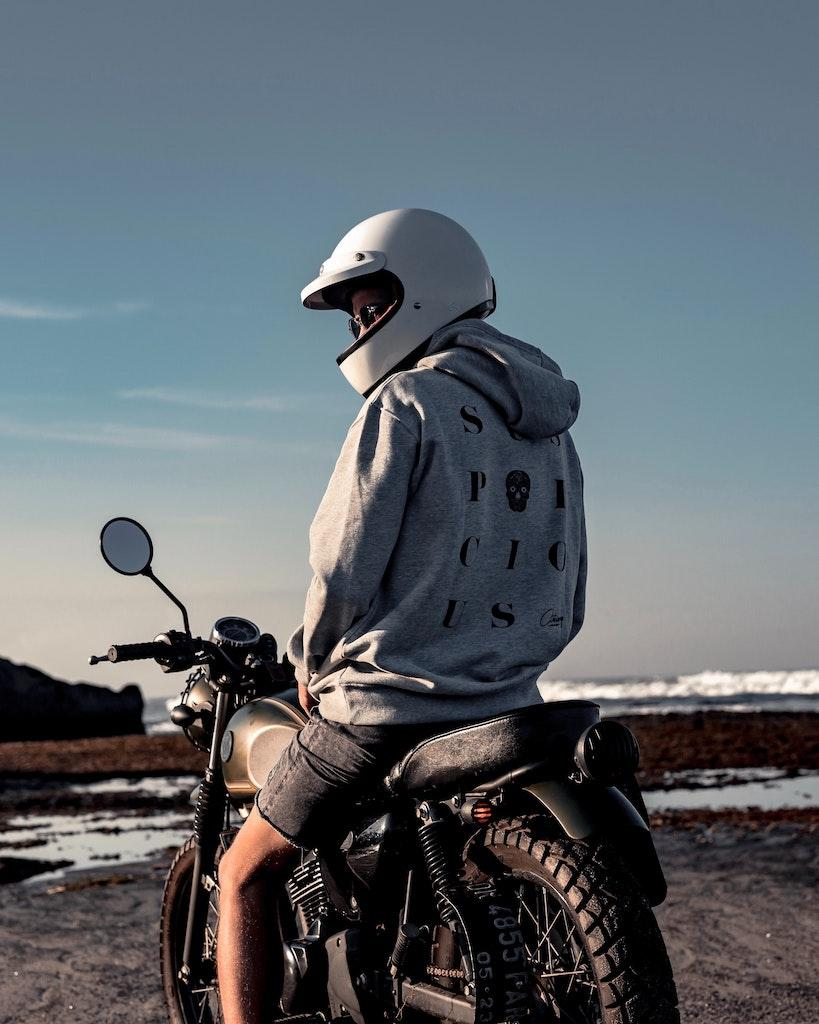helmet: (300, 207, 498, 401)
